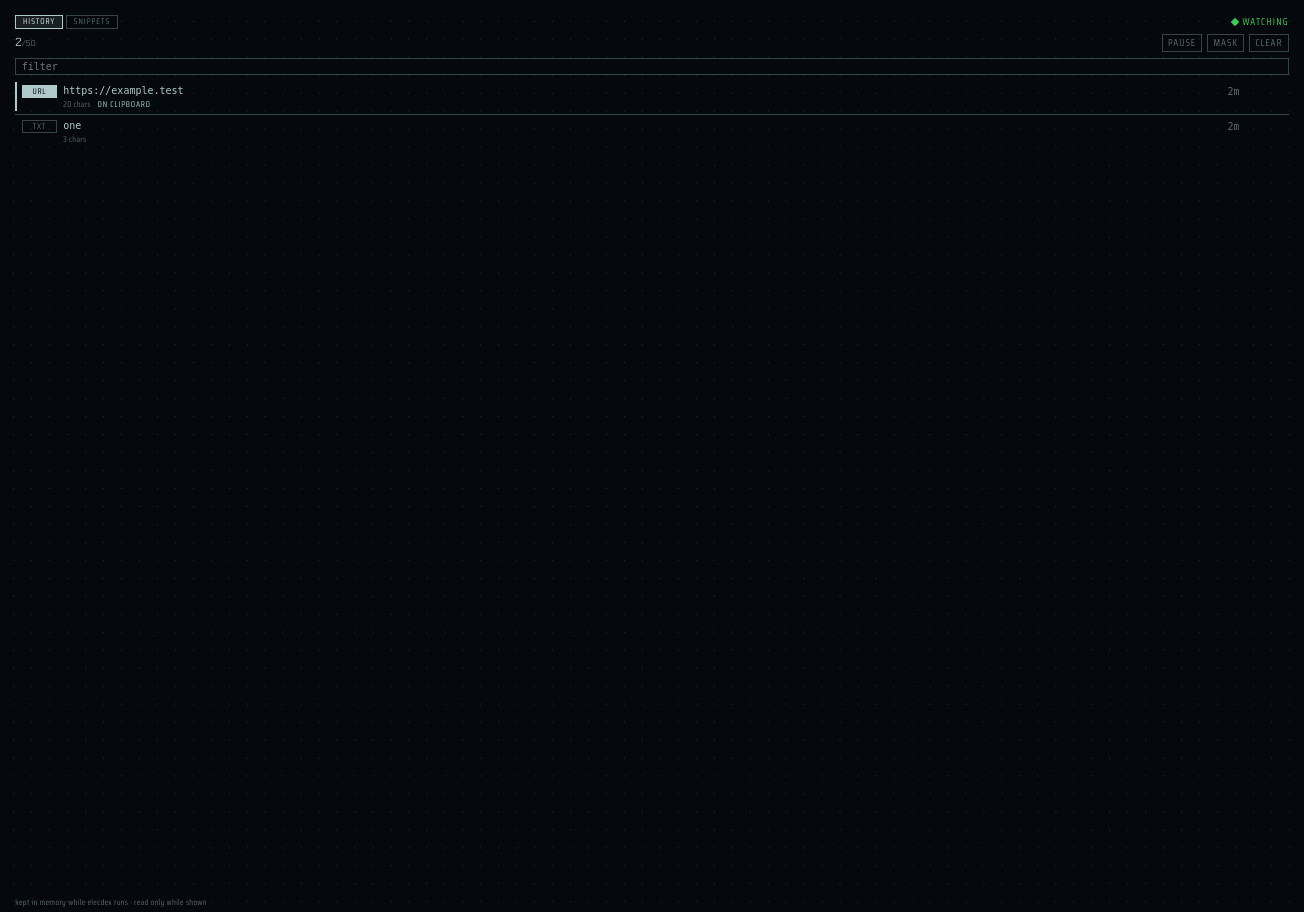
Test case: ClipboardWidget › lists entries with their tag, marks the current one, and puts one back by id
Expected: the elements with test id "clip-text" read "https://example.test", "one", in this order, [63, 85, 184, 96]; [63, 120, 81, 131]
Expected: the element with test id "clip-row" shows "URL", [15, 80, 1243, 114]
Click the button with test id "clip-entry" showing "TXT one 3 chars 2m" at {"x": 39, "y": 127}, box [15, 115, 1243, 149]
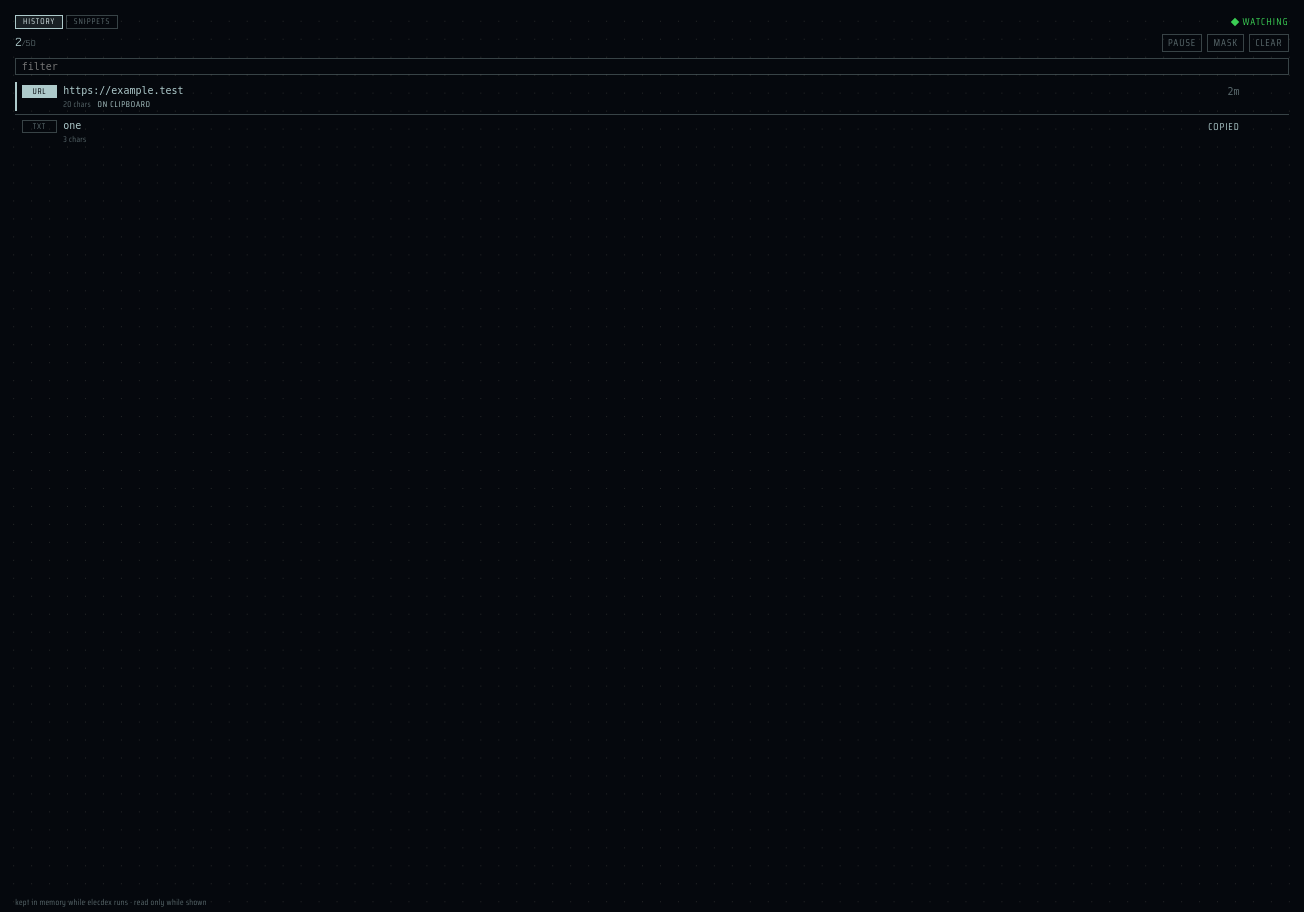
Expected: the text with test id "clip-age" reads "COPIED", [1208, 119, 1240, 134]
